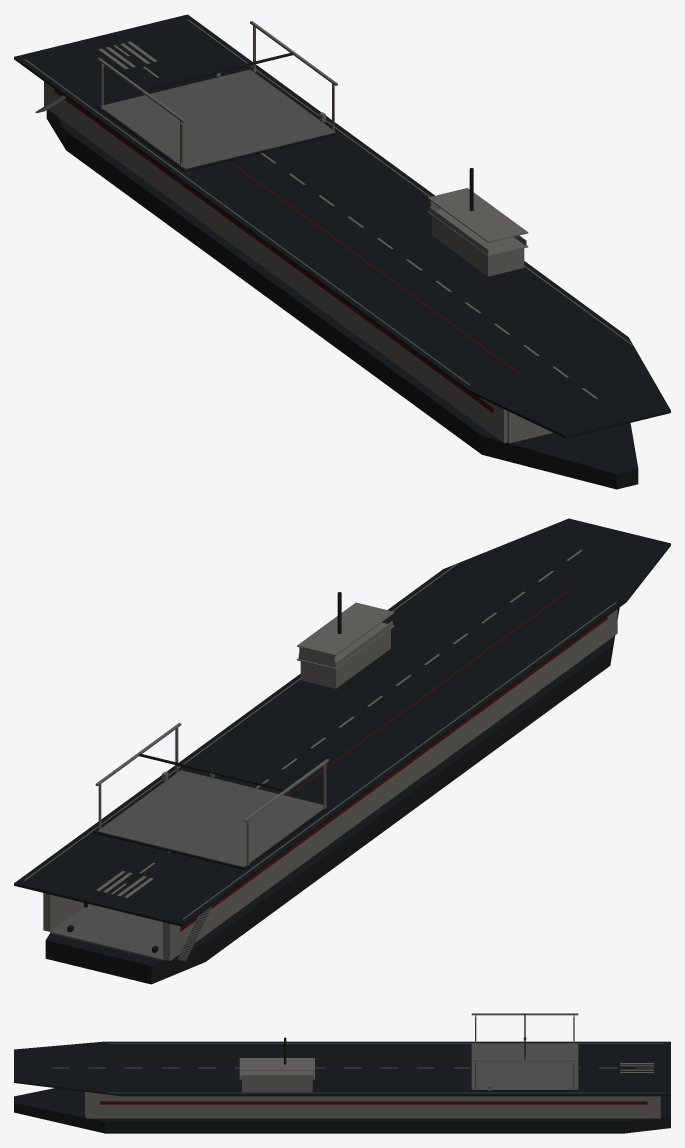
3 views of the same model, one above another, from view 1: azimuth 30°, elevation 25°; view 2: azimuth 150°, elevation 25°; view 3: azimuth 270°, elevation 25° (orthographic). The views are drawn at different scales.
Parts seen in each view (by area): view 1: carrier-flight-deck-painted, aircraft-carrier-fleet-machine, aircraft-carrier-fleet-armor, deck-printer--aircraft-printer-painted, aircraft-carrier-fleet-red; view 2: carrier-flight-deck-painted, aircraft-carrier-fleet-armor, aircraft-carrier-fleet-machine, deck-printer--aircraft-printer-painted, aircraft-carrier-fleet-edge, aircraft-carrier-fleet-red; view 3: carrier-flight-deck-painted, aircraft-carrier-fleet-armor, aircraft-carrier-fleet-machine, deck-printer--aircraft-printer-painted, aircraft-carrier-fleet-red.
Part boxes in pixels (x1,y1,x2,y2): carrier-flight-deck-painted: (14, 14, 670, 438); aircraft-carrier-fleet-machine: (46, 109, 638, 489); aircraft-carrier-fleet-armor: (44, 81, 552, 443); deck-printer--aircraft-printer-painted: (96, 21, 338, 172); aircraft-carrier-fleet-red: (54, 89, 493, 412); carrier-flight-deck-painted: (14, 518, 670, 926); aircraft-carrier-fleet-armor: (43, 602, 617, 960); aircraft-carrier-fleet-machine: (45, 592, 619, 984); deck-printer--aircraft-printer-painted: (94, 723, 330, 869); aircraft-carrier-fleet-edge: (50, 904, 212, 961); aircraft-carrier-fleet-red: (180, 616, 607, 931); carrier-flight-deck-painted: (14, 1041, 670, 1096); aircraft-carrier-fleet-armor: (85, 1058, 660, 1118); aircraft-carrier-fleet-machine: (14, 1037, 670, 1133); deck-printer--aircraft-printer-painted: (470, 1013, 579, 1091); aircraft-carrier-fleet-red: (100, 1101, 647, 1104).
Bounding box in the file's own units: 253 × 205 × 1326.
